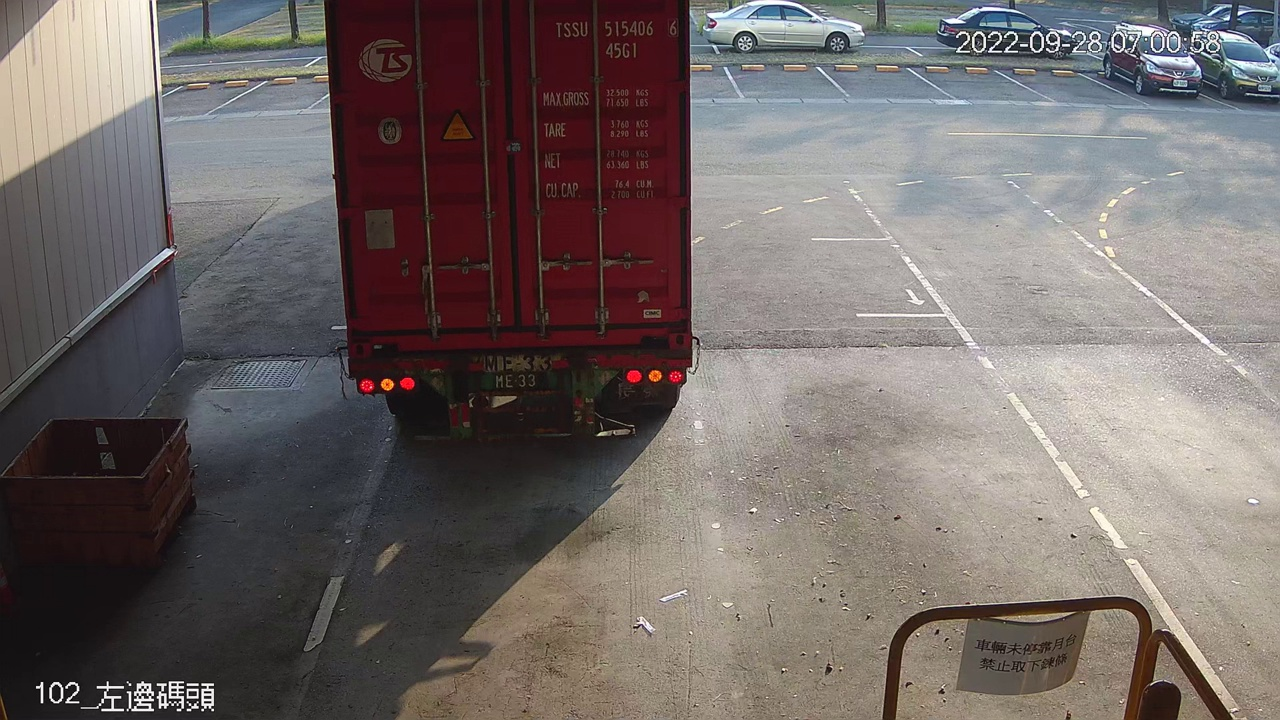container: (548, 13, 683, 65)
